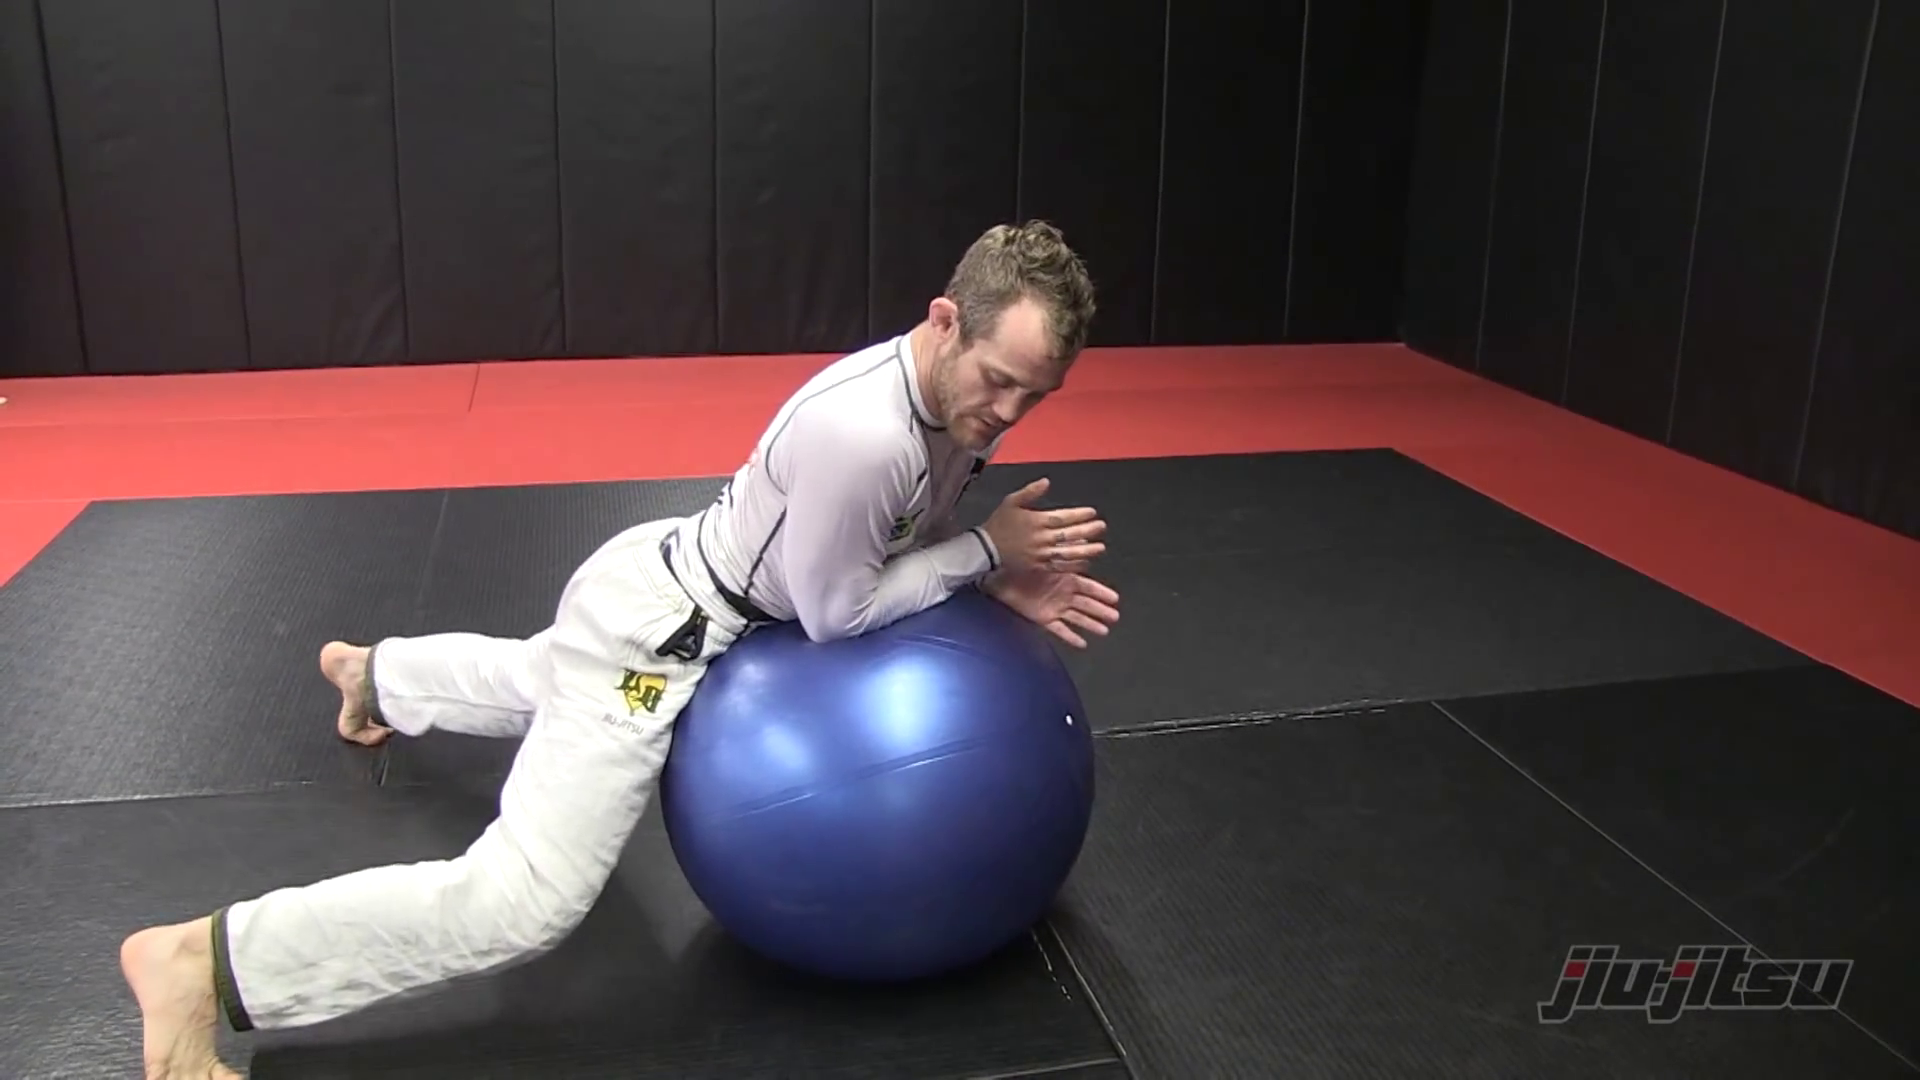yogaball: (646, 584, 1141, 992)
